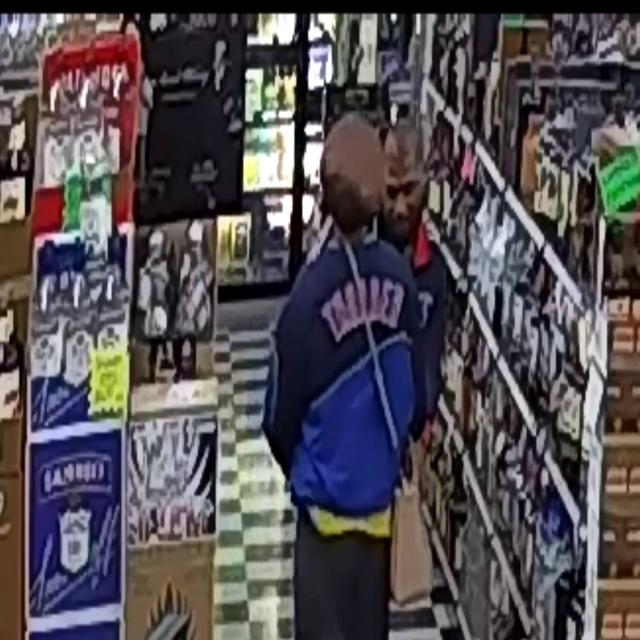normal: (272, 131, 420, 640), (386, 118, 464, 331)
